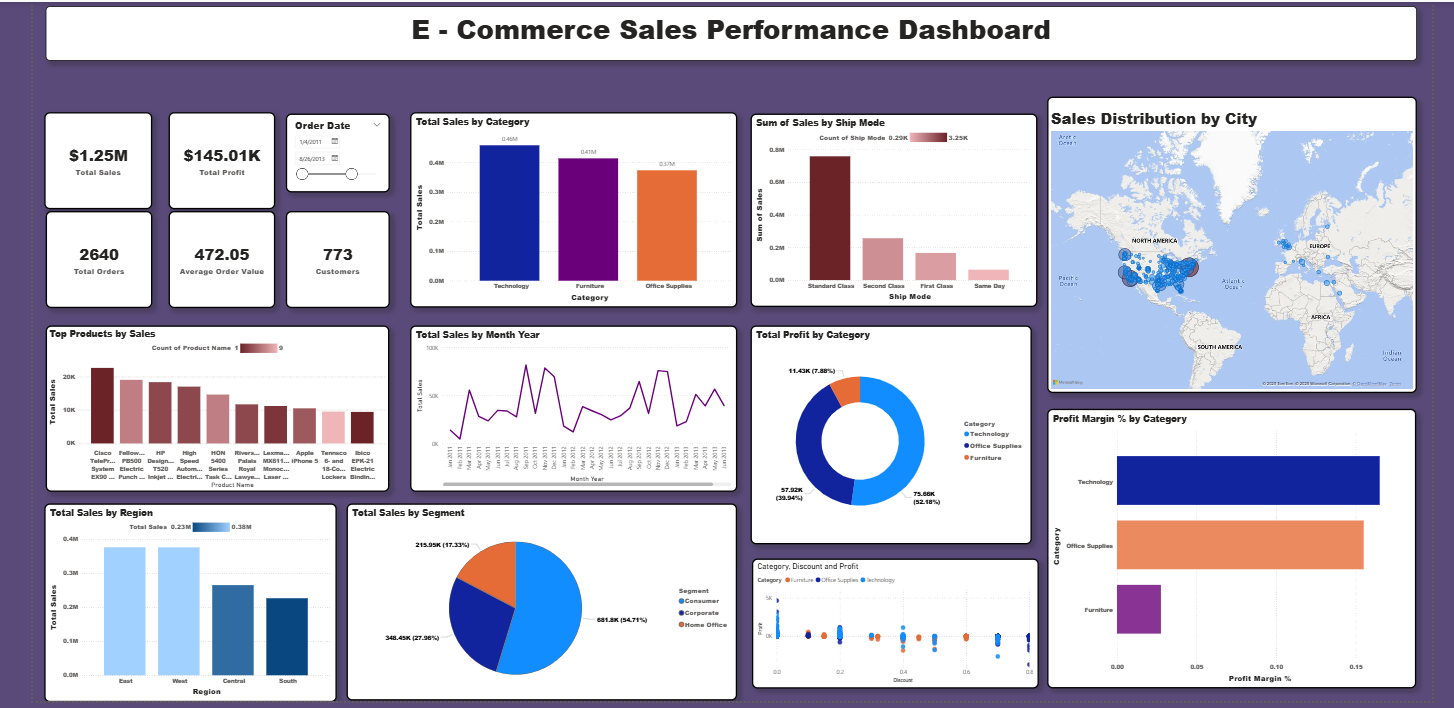

Layout of this report page (visuals, bound fields, positions):
{"tool":"powerbi","page":{"name":"Page 1","canvas":[3000,1500],"ordinal":0},"visuals":[{"type":"lineChart","fields":{"Y":["Measures (2).Total Sales"],"Category":["Orders.Monthyear"]},"box":[808.5,692.6,701.5,356.7],"z":0},{"type":"clusteredColumnChart","fields":{"Category":["Orders.Category"],"Y":["Measures (2).Total Sales"]},"box":[808.5,237.8,701.5,419.1],"z":1000},{"type":"card","fields":{"Values":["Measures (2).Total Sales"]},"box":[23.8,237.8,231.8,208.1],"z":2000},{"type":"card","fields":{"Values":["Measures (2).Total Profit"]},"box":[291.3,237.8,228.9,208.1],"z":3000},{"type":"card","fields":{"Values":["Measures (2).Total Orders"]},"box":[26.8,448.8,228.9,208.1],"z":4000},{"type":"card","fields":{"Values":["Measures (2).Average Order Value"]},"box":[291.3,448.8,228.9,208.1],"z":5000},{"type":"clusteredColumnChart","title":"Top Products by Sales","fields":{"Category":["Orders.Product Name"],"Y":["Measures (2).Total Sales"]},"box":[26.8,692.6,737.2,356.7],"z":6000},{"type":"clusteredColumnChart","fields":{"Category":["Orders.Region"],"Y":["Measures (2).Total Sales"]},"box":[24.8,1075.9,627.4,426.5],"z":7000},{"type":"slicer","fields":{"Values":["Orders.Order Date"]},"box":[541,240.8,222.9,169.4],"z":8000},{"type":"donutChart","fields":{"Category":["Orders.Category"],"Y":["Measures (2).Total Profit"]},"box":[1539,693.7,602.9,469.6],"z":9000},{"type":"pieChart","fields":{"Category":["Orders.Segment"],"Y":["Measures (2).Total Sales"]},"box":[672.2,1075.5,837.4,422.9],"z":10000},{"type":"textbox","box":[25.9,9.7,2941.1,116.7],"z":11000},{"type":"columnChart","fields":{"Category":["Orders.Ship Mode"],"Y":["Sum(Orders.Sales)"]},"box":[1539,239.3,615,415],"z":12000},{"type":"map","title":"Sales Distribution  by City","fields":{"Size":["Sum(Orders.Sales)"],"Category":["Orders.City"]},"box":[2176.1,204.4,792.6,635.8],"z":13000},{"type":"card","fields":{"Values":["Measures (2).Customers"]},"box":[541,448.8,222.9,208.1],"z":14000},{"type":"barChart","fields":{"Category":["Orders.Category"],"Y":["Measures (2).Profit Margin %"]},"box":[2175.8,872.3,791.2,599.9],"z":14001},{"type":"scatterChart","fields":{"X":["Orders.Discount"],"Y":["Orders.Profit"],"Series":["Orders.Category"]},"box":[1542,1193.6,615,278.7],"z":14002}]}

Visuals, with their boxes in screenshot pixels (x1, y1, x2, y2), scaled from the page's 3000x1500 canvas onto the 1454x708 screenshot:
lineChart - Measures (2).Total Sales x Orders.Monthyear: detection(392, 327, 732, 495)
clusteredColumnChart - Orders.Category x Measures (2).Total Sales: detection(392, 112, 732, 310)
card - Measures (2).Total Sales: detection(12, 112, 124, 210)
card - Measures (2).Total Profit: detection(141, 112, 252, 210)
card - Measures (2).Total Orders: detection(13, 212, 124, 310)
card - Measures (2).Average Order Value: detection(141, 212, 252, 310)
"Top Products by Sales" clusteredColumnChart: detection(13, 327, 370, 495)
clusteredColumnChart - Orders.Region x Measures (2).Total Sales: detection(12, 508, 316, 707)
slicer - Orders.Order Date: detection(262, 114, 370, 194)
donutChart - Orders.Category x Measures (2).Total Profit: detection(746, 327, 1038, 549)
pieChart - Orders.Segment x Measures (2).Total Sales: detection(326, 508, 732, 707)
textbox: detection(13, 5, 1438, 60)
columnChart - Orders.Ship Mode x Sum(Orders.Sales): detection(746, 113, 1044, 309)
"Sales Distribution  by City" map: detection(1055, 96, 1439, 397)
card - Measures (2).Customers: detection(262, 212, 370, 310)
barChart - Orders.Category x Measures (2).Profit Margin %: detection(1055, 412, 1438, 695)
scatterChart - Orders.Discount x Orders.Profit: detection(747, 563, 1045, 695)
